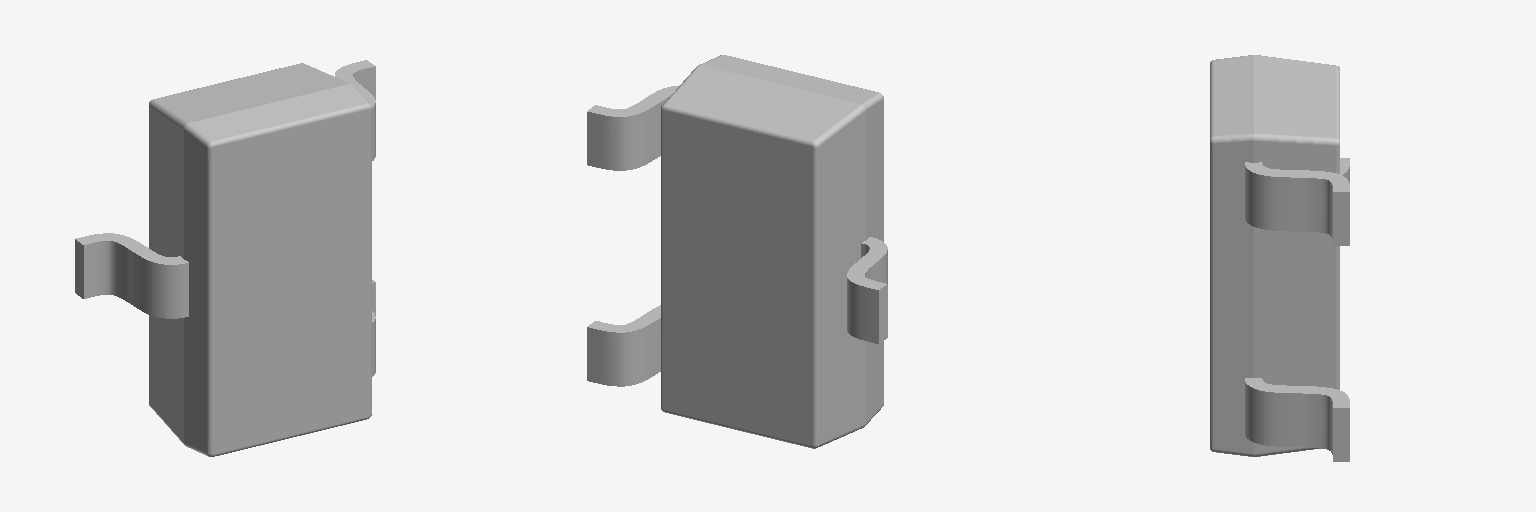
The model's file is sot23.obj.
The picture shows the model from 3 angles: view 1: azimuth 30°, elevation 25°; view 2: azimuth 150°, elevation 25°; view 3: azimuth 270°, elevation 25°; orthographic projection.
Parts seen in each view (by area): view 1: Solid4, Solid3, Solid2; view 2: Solid4, Solid2, Solid1, Solid3; view 3: Solid4, Solid1, Solid2.
Boxes of the visible parts, x1=… form: Solid4: x1=149, y1=63, x2=371, y2=456; Solid3: x1=75, y1=233, x2=188, y2=318; Solid2: x1=335, y1=60, x2=375, y2=160; Solid4: x1=661, y1=55, x2=883, y2=448; Solid2: x1=587, y1=85, x2=679, y2=170; Solid1: x1=587, y1=305, x2=660, y2=386; Solid3: x1=847, y1=237, x2=887, y2=343; Solid4: x1=1210, y1=55, x2=1339, y2=456; Solid1: x1=1245, y1=378, x2=1349, y2=461; Solid2: x1=1245, y1=162, x2=1349, y2=245.
Size of the model in its own units: 2.84 by 3 by 1.18.